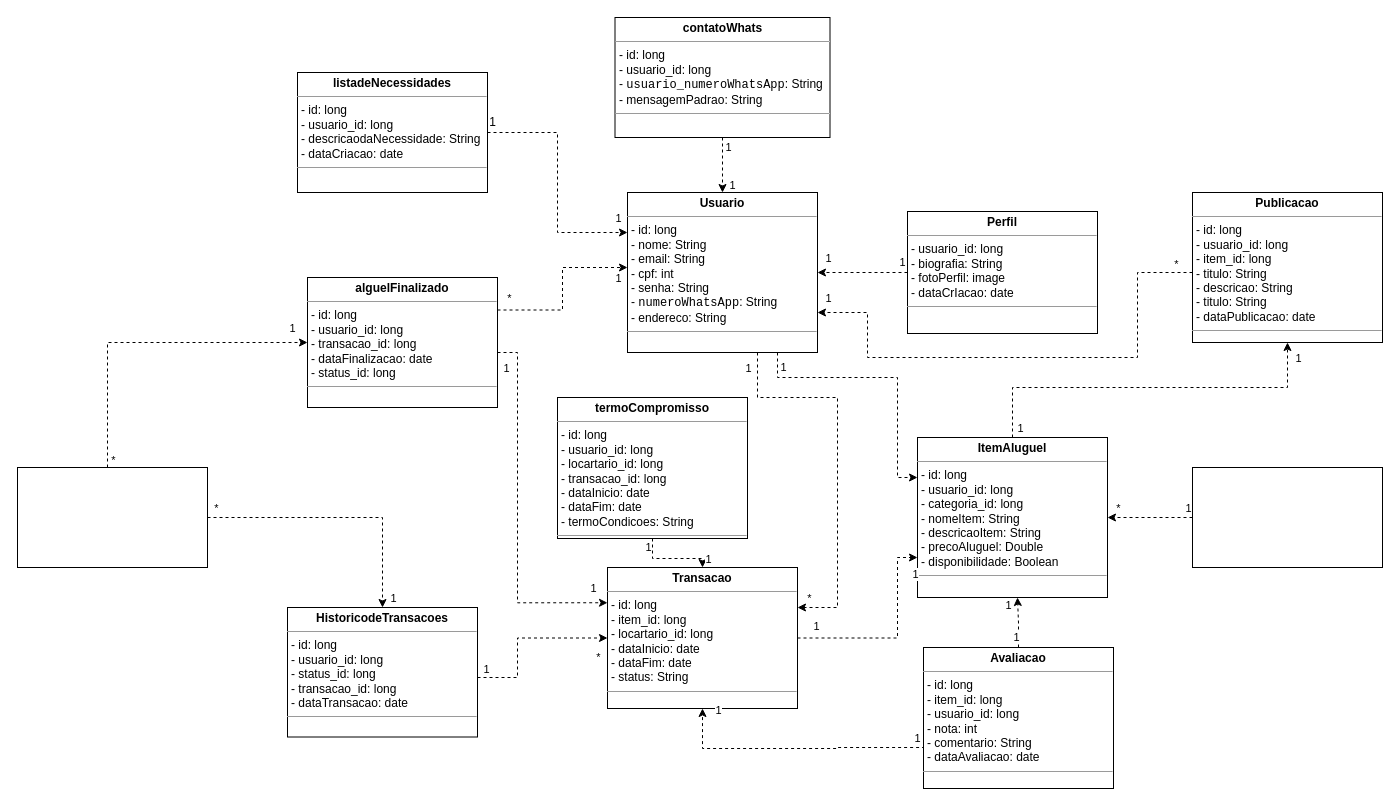
The diagram is 1400 pixels wide and 806 high, and some of its shapes have lost their labels. The box of each missing label's shape, as (x1, y1, x2, y2) in pixels:
Categoria - id: long - nome: String - descricao: String: (1192, 466, 1382, 568)
Status - id: long - nome: String - descricao: String: (16, 466, 208, 568)
